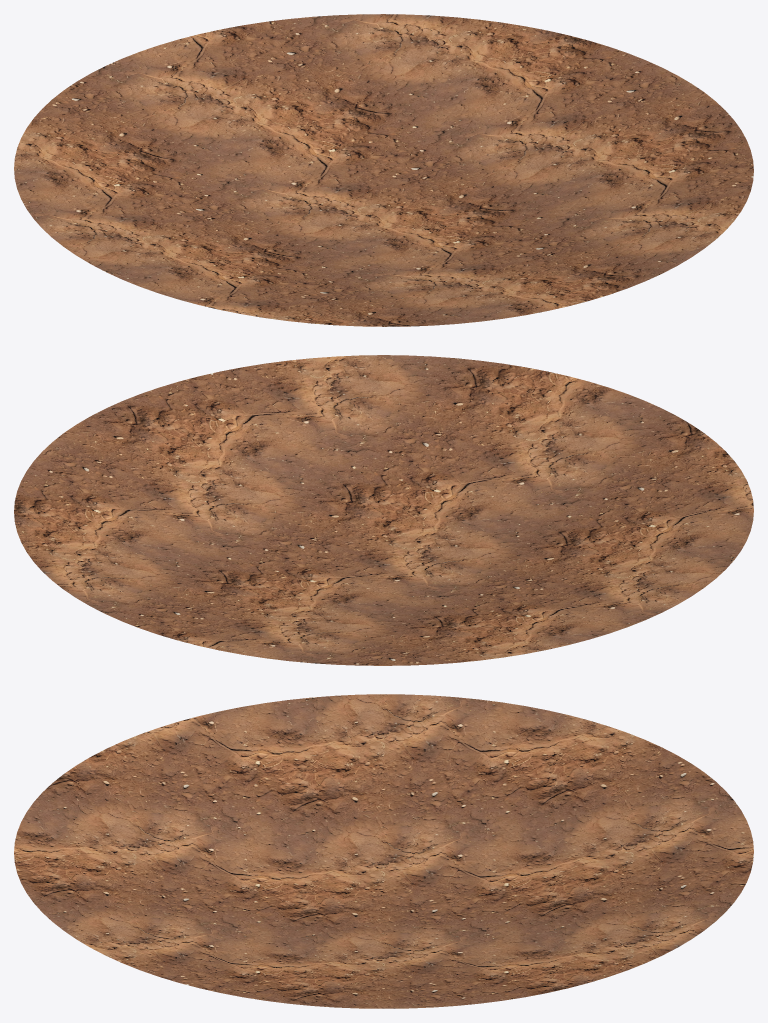
File: moist_clayey_soil_full_of_straw.glb
The picture shows the model from 3 angles, top to bottom: view 1: azimuth 30°, elevation 25°; view 2: azimuth 150°, elevation 25°; view 3: azimuth 270°, elevation 25°; orthographic projection.
Visible parts, largest first — view 1: Object_2; view 2: Object_2; view 3: Object_2.
Part boxes in pixels (bbox=[...]): Object_2: bbox=[14, 14, 753, 326]; Object_2: bbox=[14, 355, 753, 665]; Object_2: bbox=[14, 694, 753, 1008].
Size of the model in its own units: 1316 by 67 by 1316.
1 material, 1 textured.
